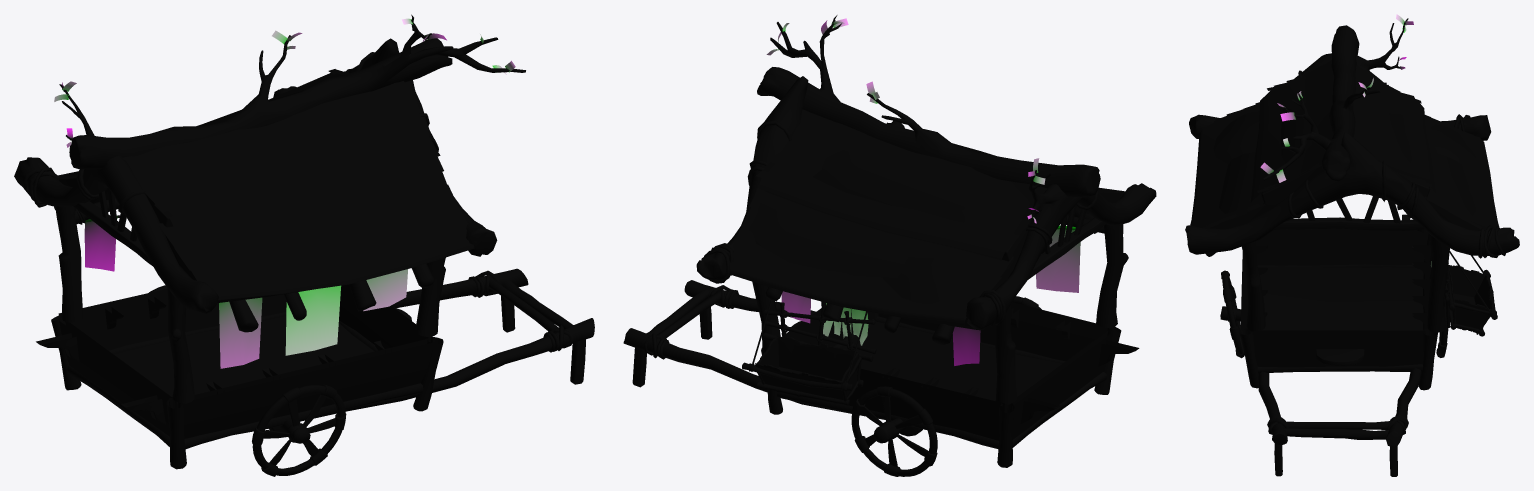
Rendered from M4_VillageCart.fbx.
3 renders of one model, left to right at view 1: azimuth 30°, elevation 25°; view 2: azimuth 150°, elevation 25°; view 3: azimuth 270°, elevation 25°, orthographic. The views are drawn at different scales.
Visible parts, largest first — view 1: SM_VillageCart.mo; view 2: SM_VillageCart.mo; view 3: SM_VillageCart.mo.
Part boxes in pixels (box(x1,y1,x2,y2)): SM_VillageCart.mo: box(14, 14, 594, 476); SM_VillageCart.mo: box(623, 15, 1156, 476); SM_VillageCart.mo: box(1185, 14, 1519, 476).
Bounding box in the file's own units: 531 × 421 × 392.
